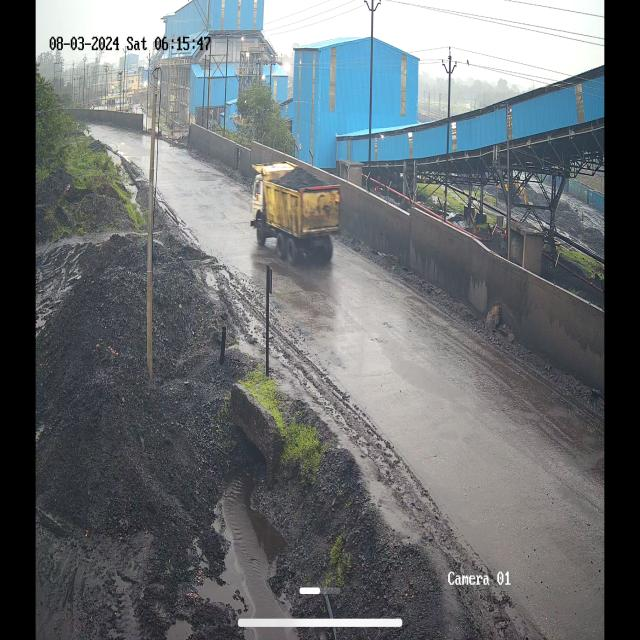dump_truck: (250, 152, 343, 271)
